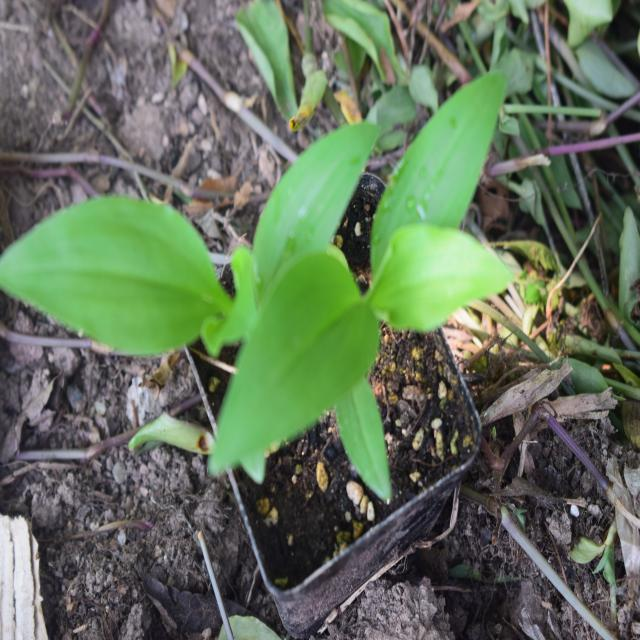Common Dayflower: (225, 60, 519, 505), (0, 161, 230, 365)
